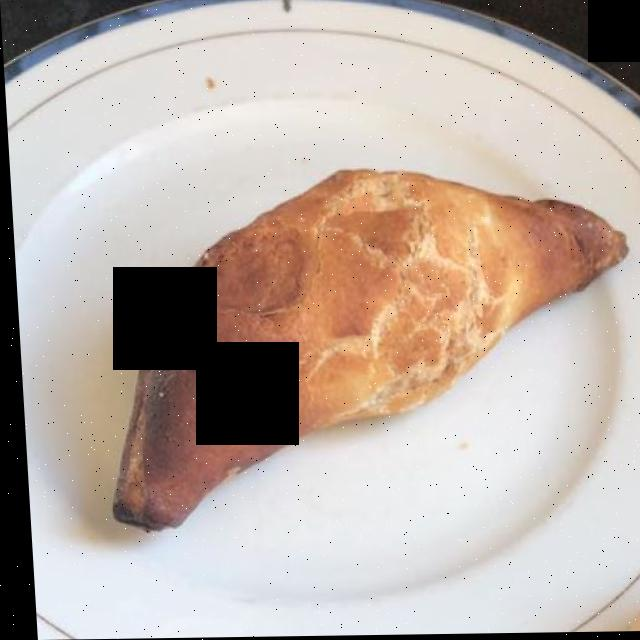turnover-with-meat-small-meat-pie-empanadas: (97, 163, 631, 529)
